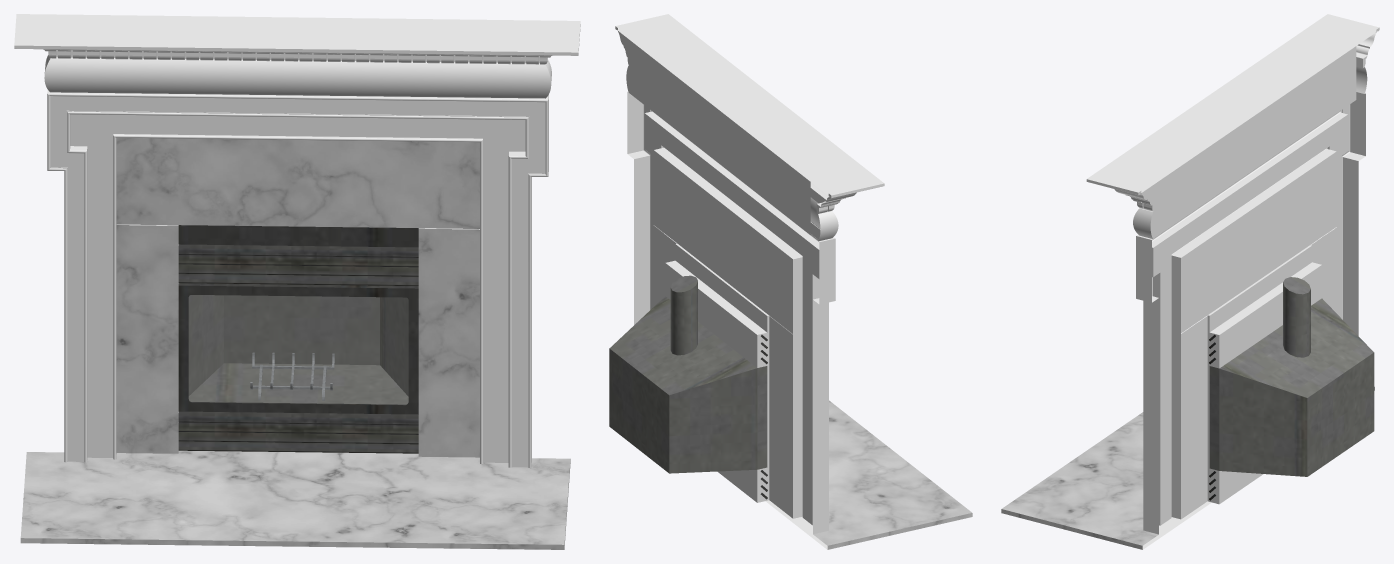
Rendered from obj_sketchup_fireplace_c95276.glb.
The picture shows the model from 3 angles, left to right: view 1: azimuth 30°, elevation 25°; view 2: azimuth 150°, elevation 25°; view 3: azimuth 270°, elevation 25°; orthographic projection. The views are drawn at different scales.
Parts seen in each view (by area): view 1: obj_sketchup_fireplace_c95276; view 2: obj_sketchup_fireplace_c95276; view 3: obj_sketchup_fireplace_c95276.
Boxes of the visible parts, x1,y1,x2,y2 form: obj_sketchup_fireplace_c95276: (14, 14, 580, 549); obj_sketchup_fireplace_c95276: (609, 14, 972, 549); obj_sketchup_fireplace_c95276: (1001, 14, 1379, 549).
Bounding box in the file's own units: 1.3 × 1.1 × 1.05.
Materials: 9 (5 with a texture image).
